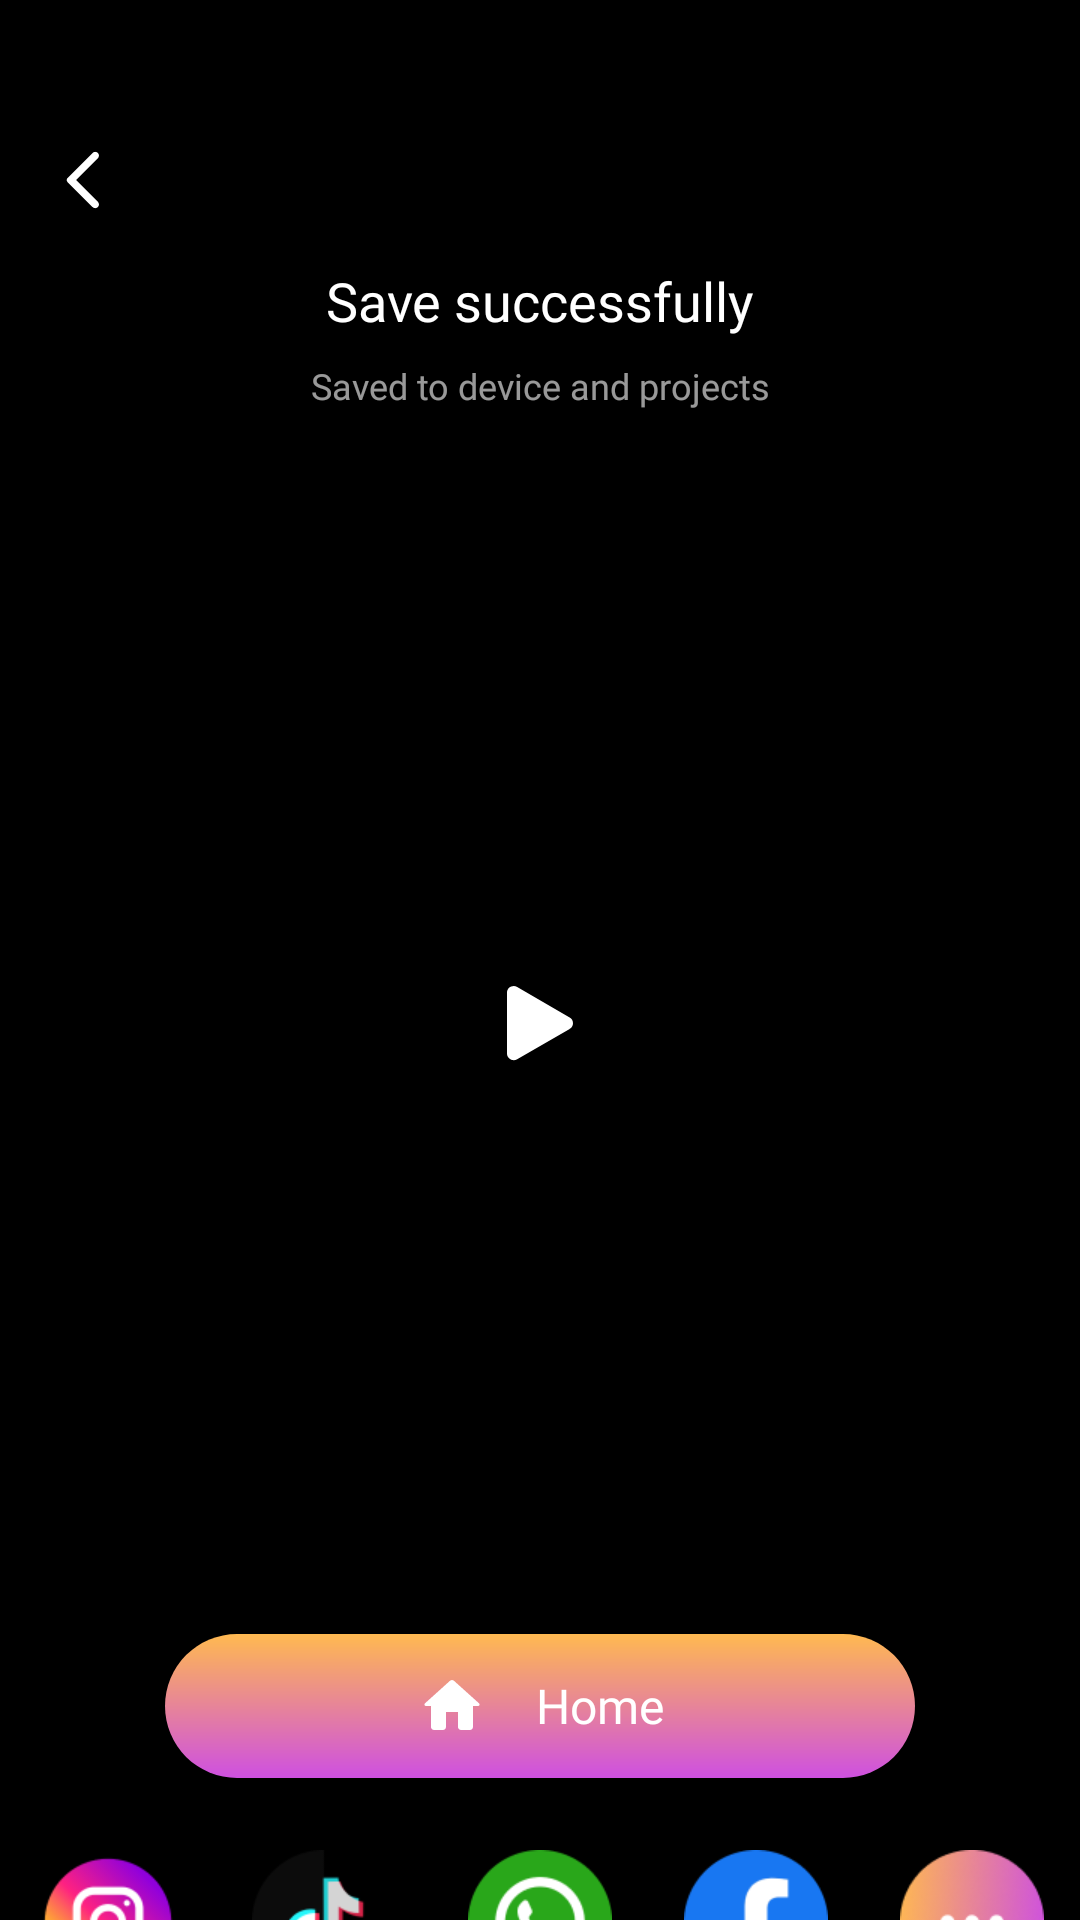

Named icons in this screenshot (1080px x 1920px) and their centers, (x,y):
back: (82,180)
